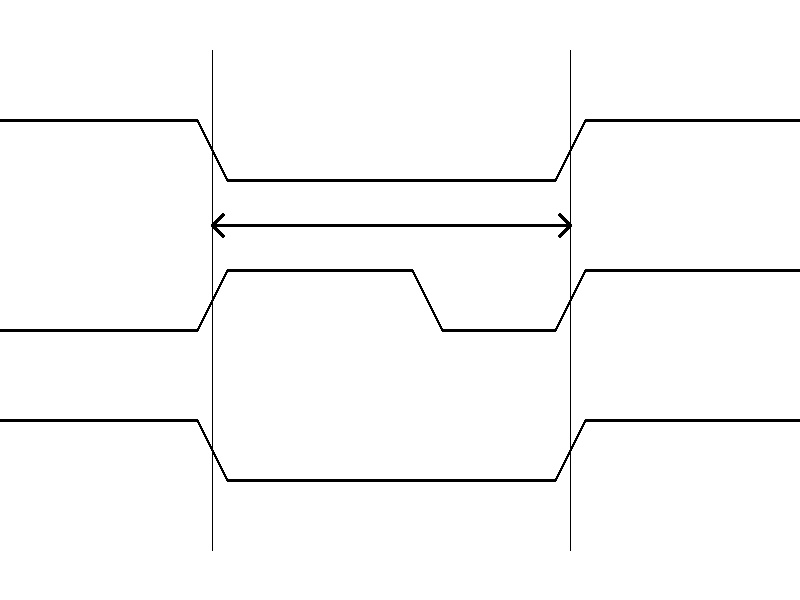double_arrow: (212, 210, 570, 240)
